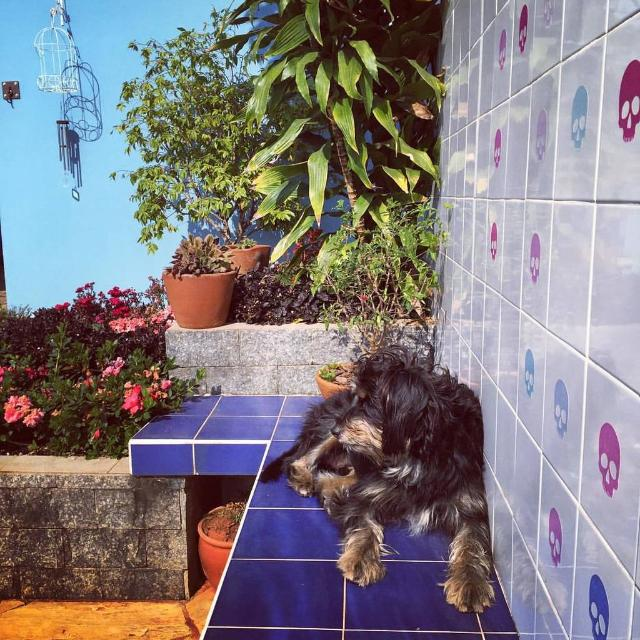Flower: (58, 285, 170, 333), (122, 364, 174, 418), (3, 393, 29, 422), (102, 357, 128, 378), (23, 408, 45, 428), (50, 408, 62, 418), (54, 304, 61, 308)
